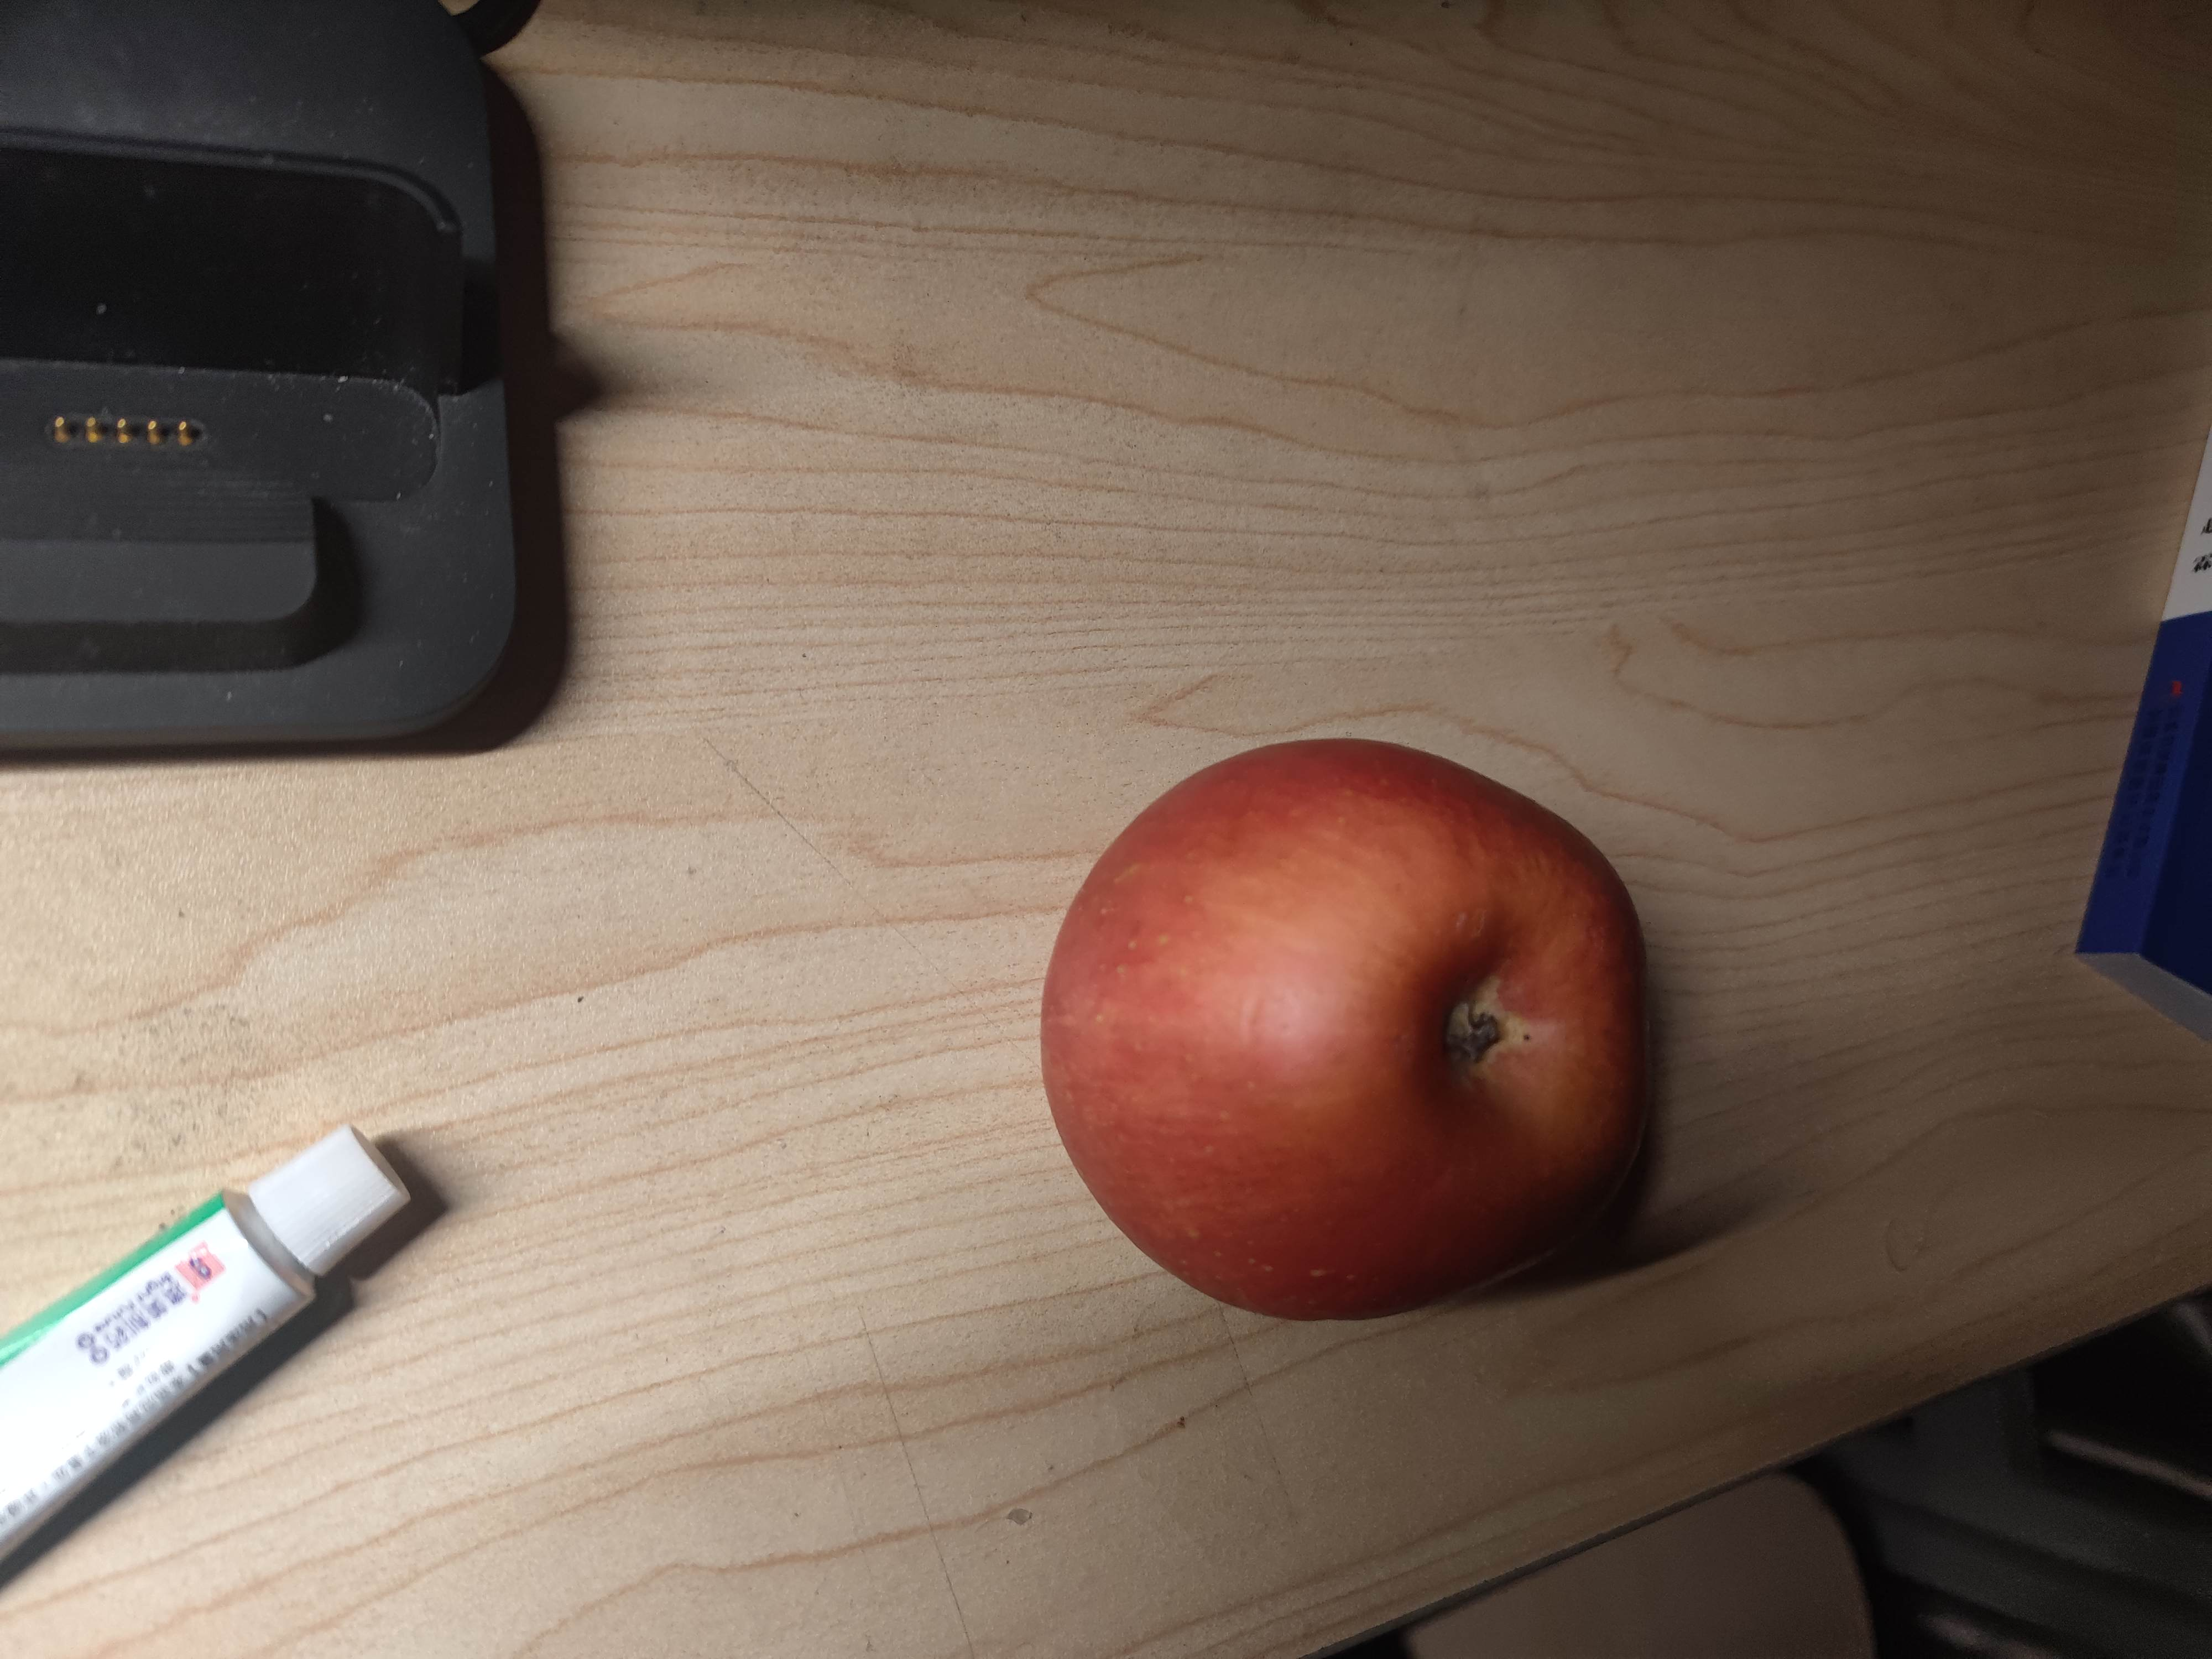apple: (1035, 746, 1665, 1326)
